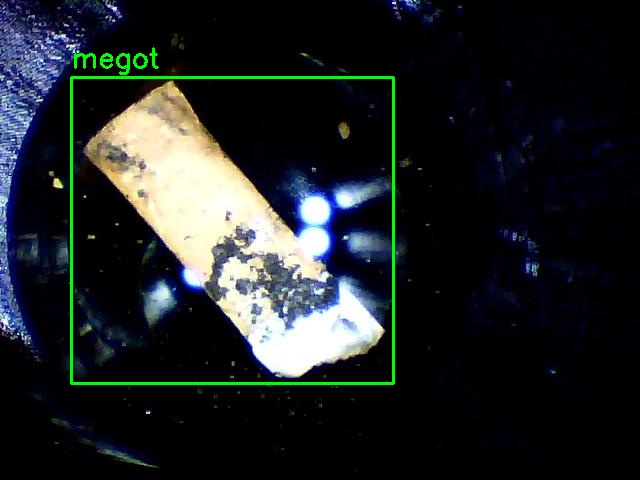megot: (71, 77, 393, 383)
